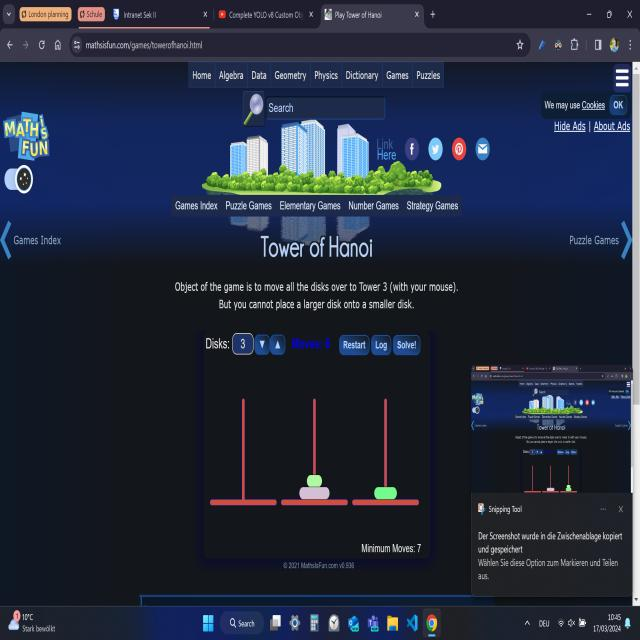disk1: (307, 475, 322, 487)
disk2: (374, 487, 397, 499)
disk3: (300, 487, 330, 499)
